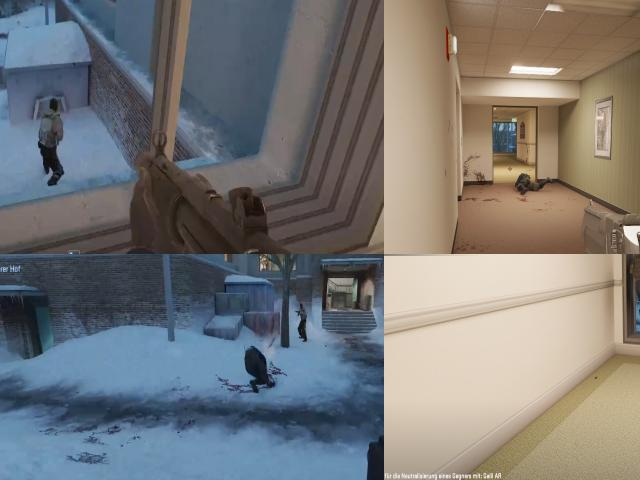CT-Head: (515, 173, 553, 194)
T: (240, 343, 276, 382), (37, 105, 68, 150), (296, 301, 309, 338)
T-Head: (45, 97, 60, 118), (298, 300, 306, 312)
